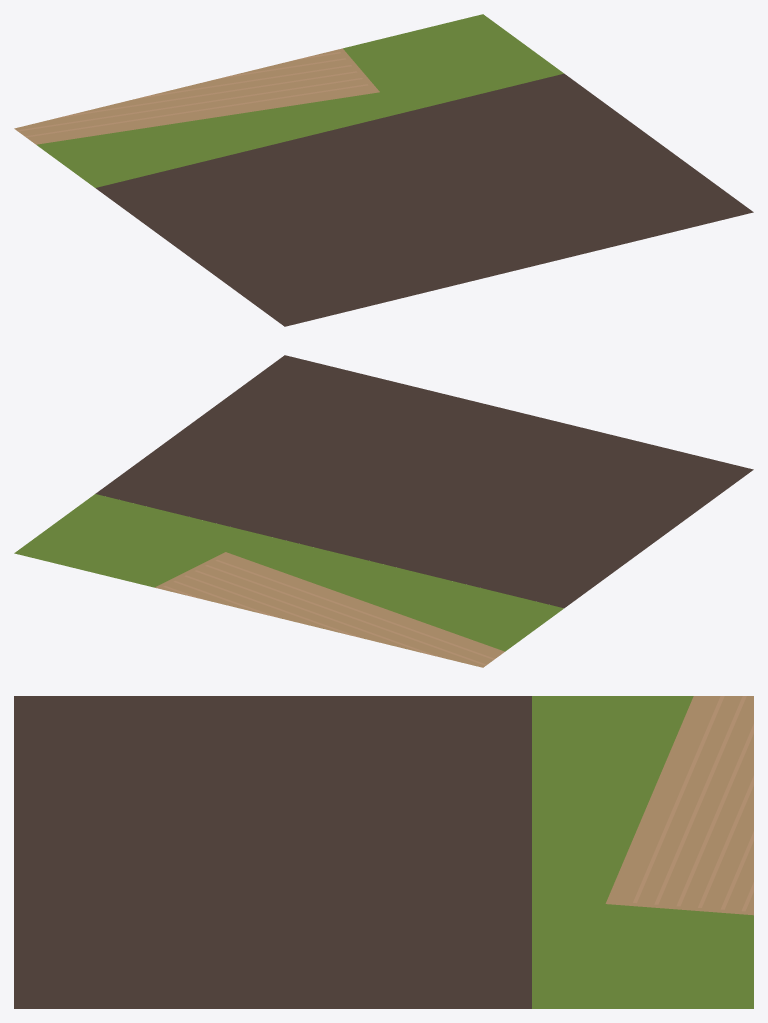
Rendered from crossing-3-2.glb.
3 views of the same model, one above another, from view 1: azimuth 30°, elevation 25°; view 2: azimuth 150°, elevation 25°; view 3: azimuth 270°, elevation 25° (orthographic). The views are drawn at different scales.
Visible parts, largest first — view 1: crossing-3-2; view 2: crossing-3-2; view 3: crossing-3-2.
Boxes of the visible parts, x1=… form: crossing-3-2: x1=14, y1=14, x2=753, y2=326; crossing-3-2: x1=14, y1=355, x2=753, y2=667; crossing-3-2: x1=14, y1=696, x2=753, y2=1008.
Bounding box in the file's own units: 100 × 0.0064 × 100.
